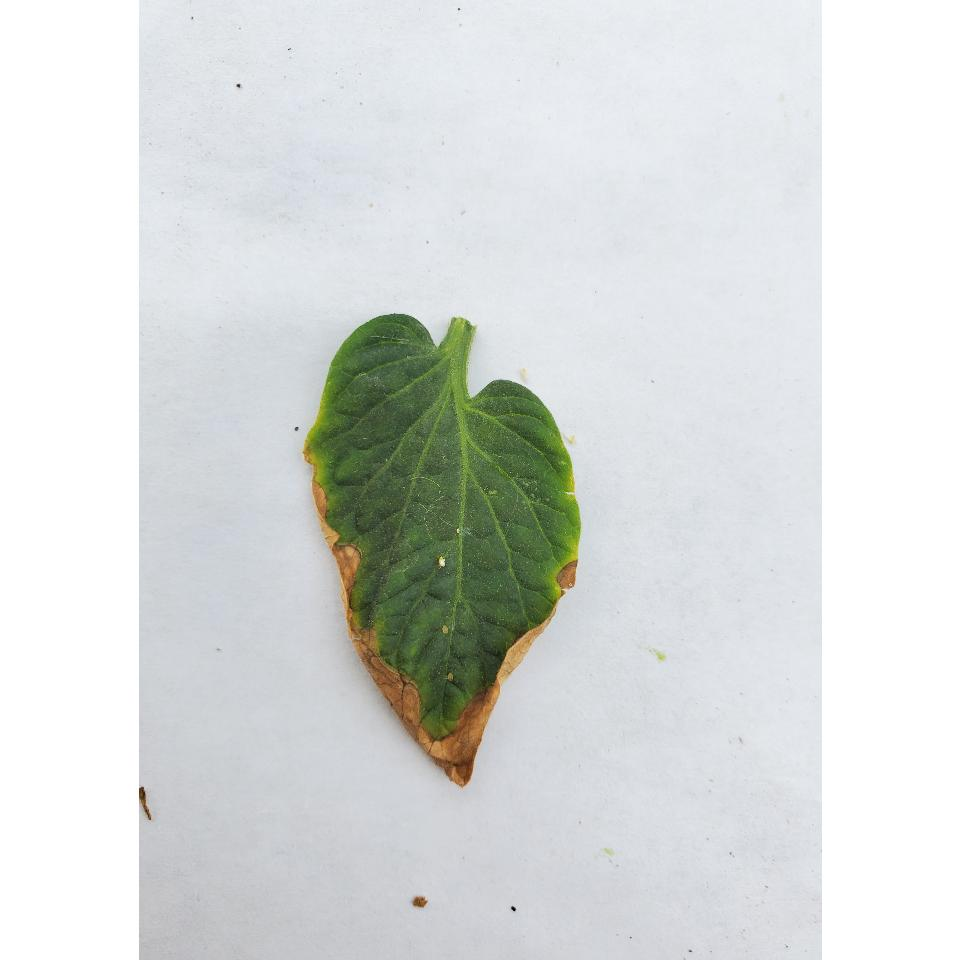tomato_bacterial_blight: (309, 259, 582, 807)
